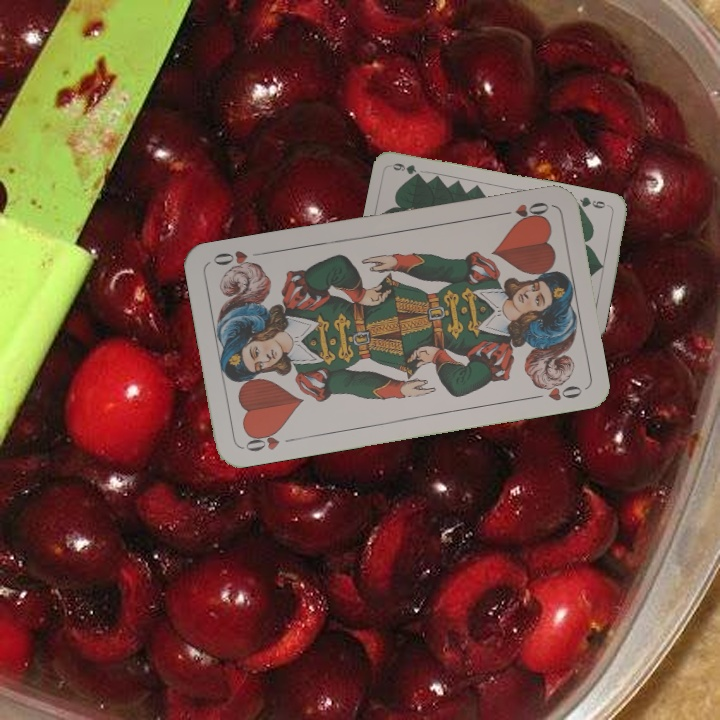G9: (572, 193, 613, 211)
HO: (239, 425, 298, 454), (494, 198, 552, 224)
